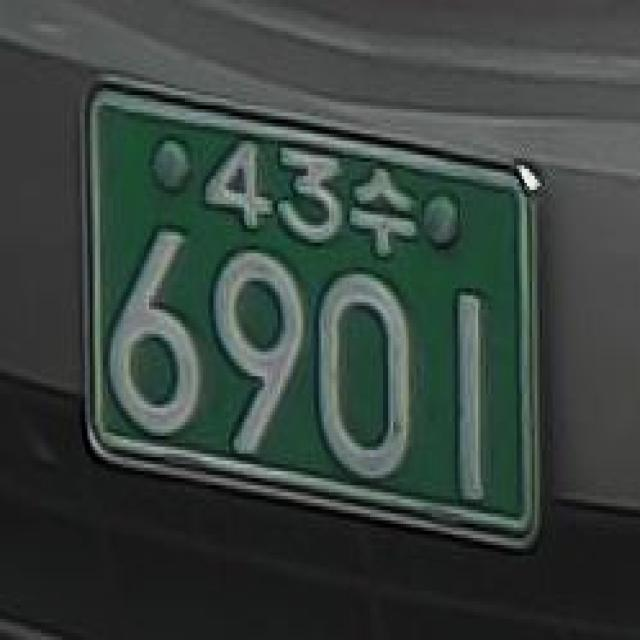illegal_plate: (59, 72, 560, 560)
